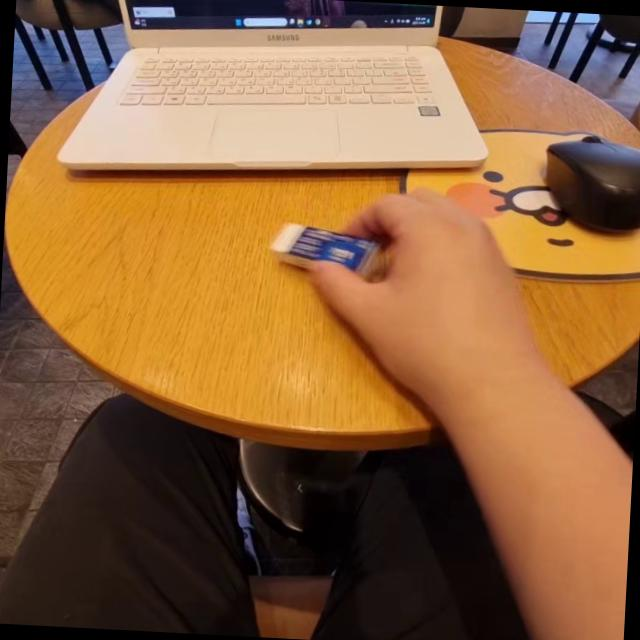eraser: (260, 210, 386, 286)
grab_eraser: (280, 169, 534, 441)
hand: (332, 189, 522, 392)
mouse: (537, 125, 640, 247)
